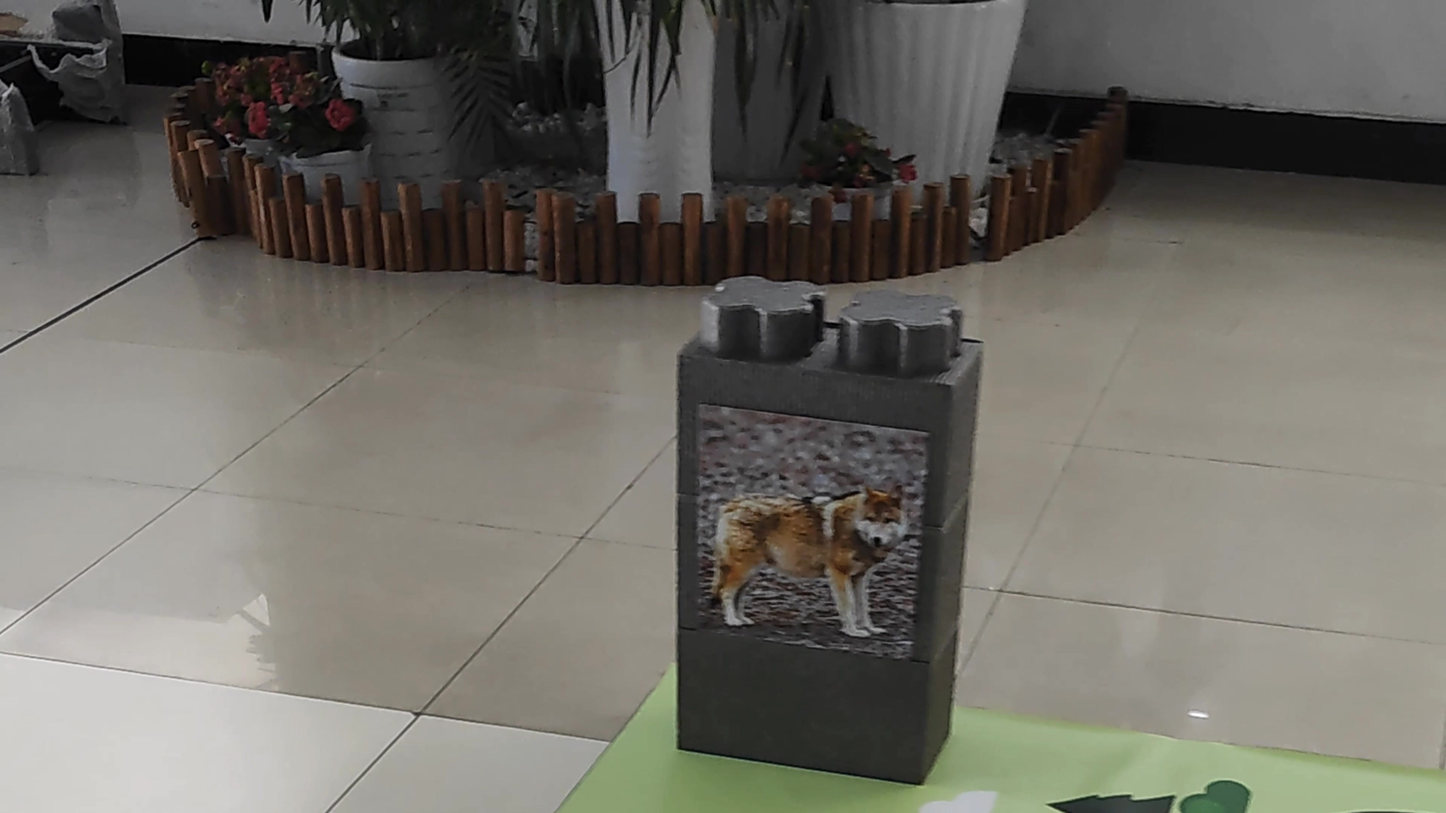wolf: (697, 420, 923, 639)
